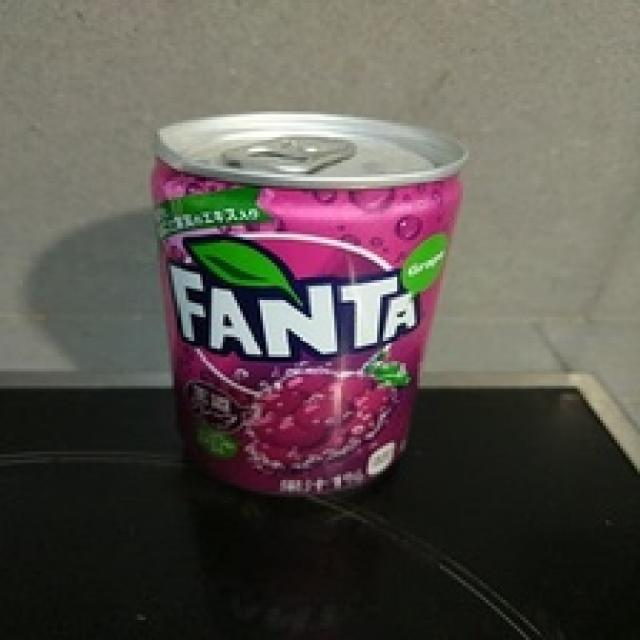recyclable: (152, 109, 468, 496)
